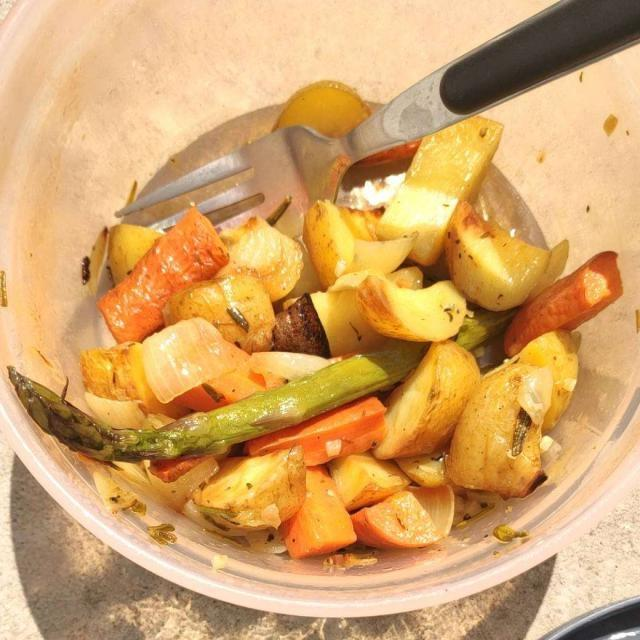mixed-vegetables: (32, 126, 602, 553)
potatoes: (178, 112, 586, 535)
